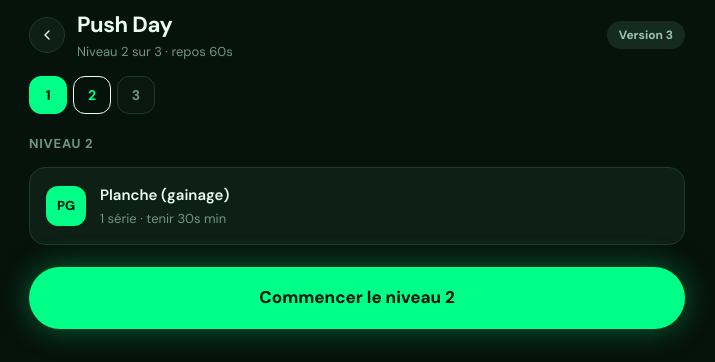
Test: ce qu on peut lancer › explique pourquoi un niveau plus loin n est pas jouable
The image size is (715, 362).
Click the button named "Niveau 3, verrouillé" at (136, 94), box [117,76,155,114]
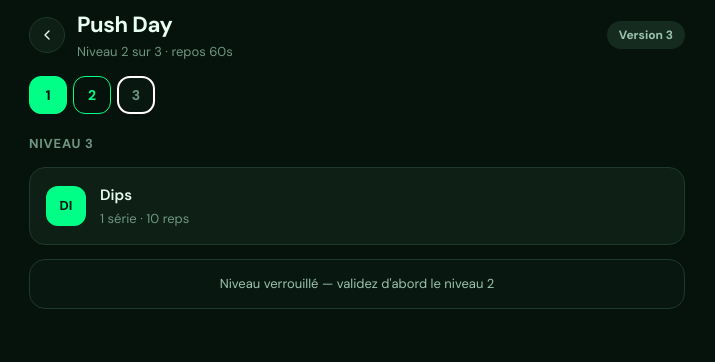
Check: the text "Niveau verrouillé — validez d'abord le niveau 2" is shown, box [29,259,685,308]
Check: the link "Commencer" is gone
